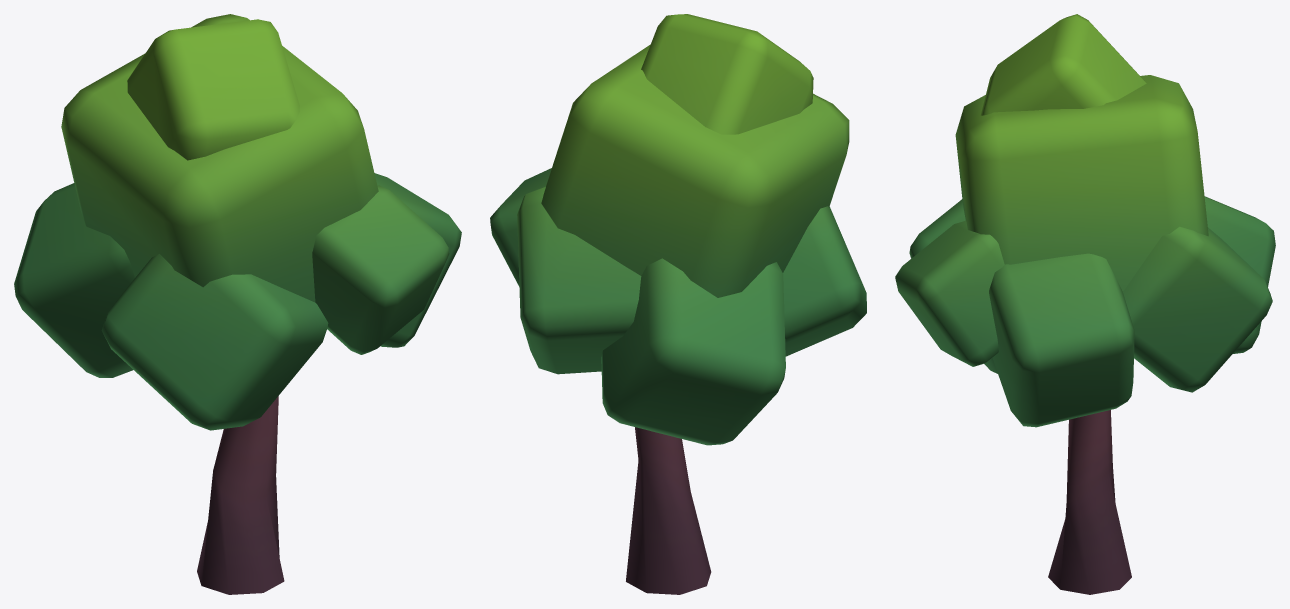
The model's file is tree_forest2a.fbx.
3 renders of one model, left to right at view 1: azimuth 30°, elevation 25°; view 2: azimuth 150°, elevation 25°; view 3: azimuth 270°, elevation 25°, orthographic. The views are drawn at different scales.
Parts seen in each view (by area): view 1: model_0.001; view 2: model_0.001; view 3: model_0.001.
Boxes of the visible parts, left/top/right/bottom form: model_0.001: left=14, top=14, right=461, bottom=594; model_0.001: left=490, top=14, right=866, bottom=594; model_0.001: left=895, top=14, right=1275, bottom=594.
Size of the model in its own units: 1664 by 2539 by 1659.
